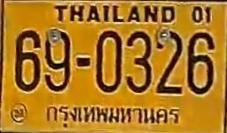0: (96, 30, 122, 92)
2: (155, 30, 182, 93)
3: (125, 30, 152, 92)
6: (187, 31, 214, 94), (15, 30, 40, 92)
9: (45, 28, 70, 91)
BKK: (41, 101, 183, 131)
